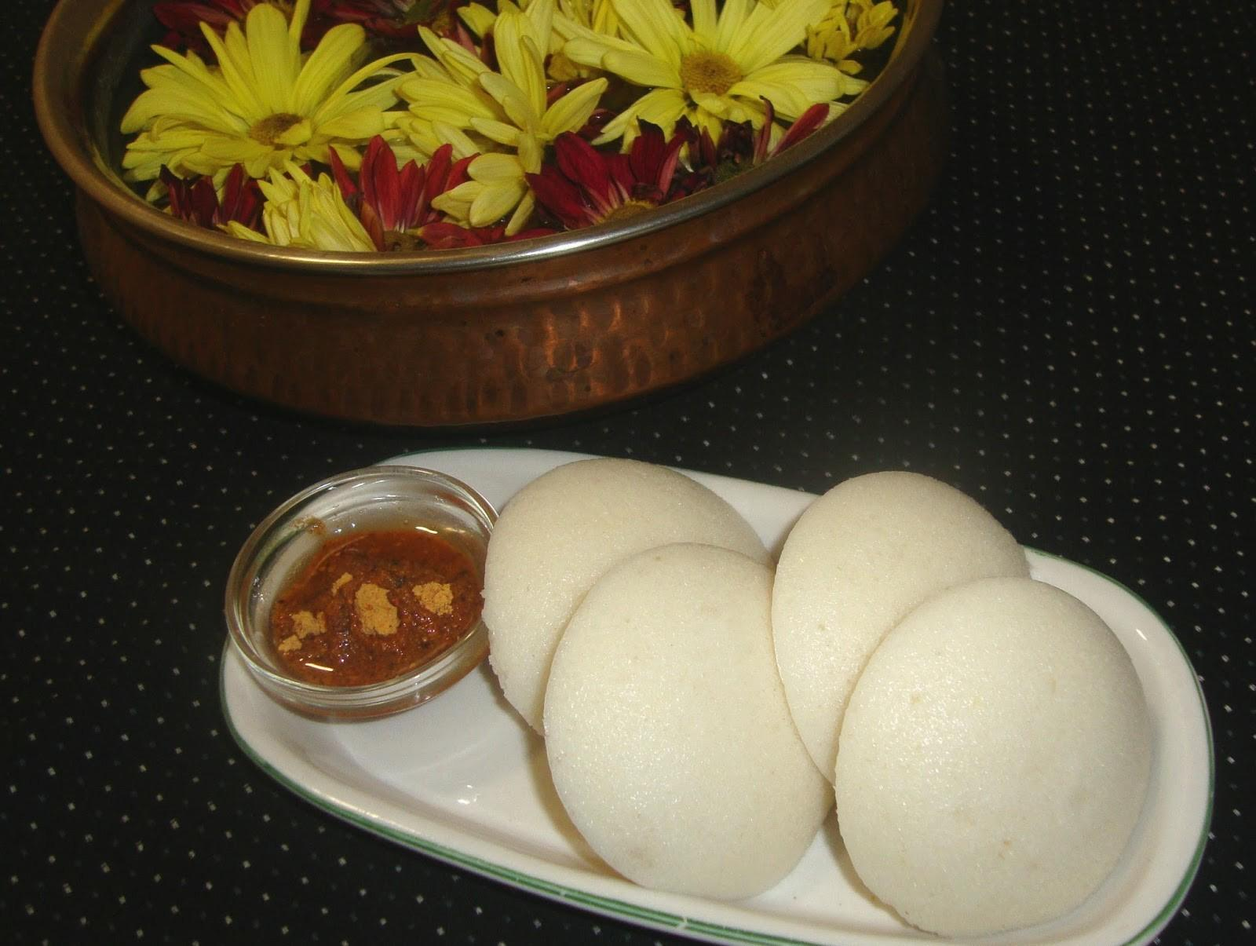Idli: (833, 576, 1152, 937), (540, 543, 830, 900), (772, 468, 1034, 797), (481, 456, 772, 742)
